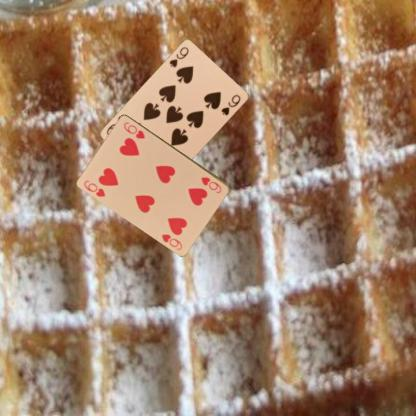6h: (81, 178, 107, 198), (198, 174, 223, 194)
9s: (166, 44, 190, 69)
